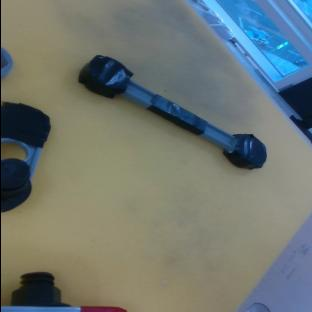part_1_bad: (0, 102, 49, 212)
part_1_good: (0, 272, 125, 312)
part_3_bad: (73, 47, 272, 180)
part_3_good: (0, 47, 12, 79)
